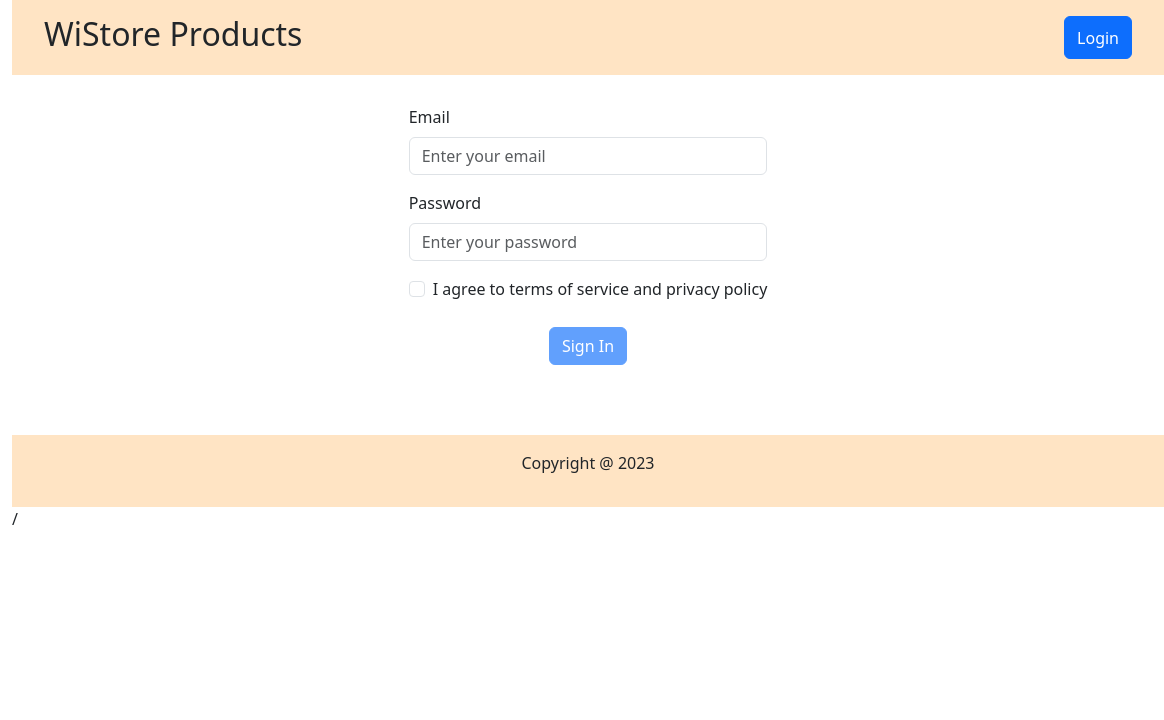
1-) Başarılı form doldurulduğunda submit edebiliyorum: › email yanlış girdim:
The width and height of the screenshot is (1164, 720).
Type "asdasdasdads" into the field with test id "email" at (589, 156), box [409,137,768,175]
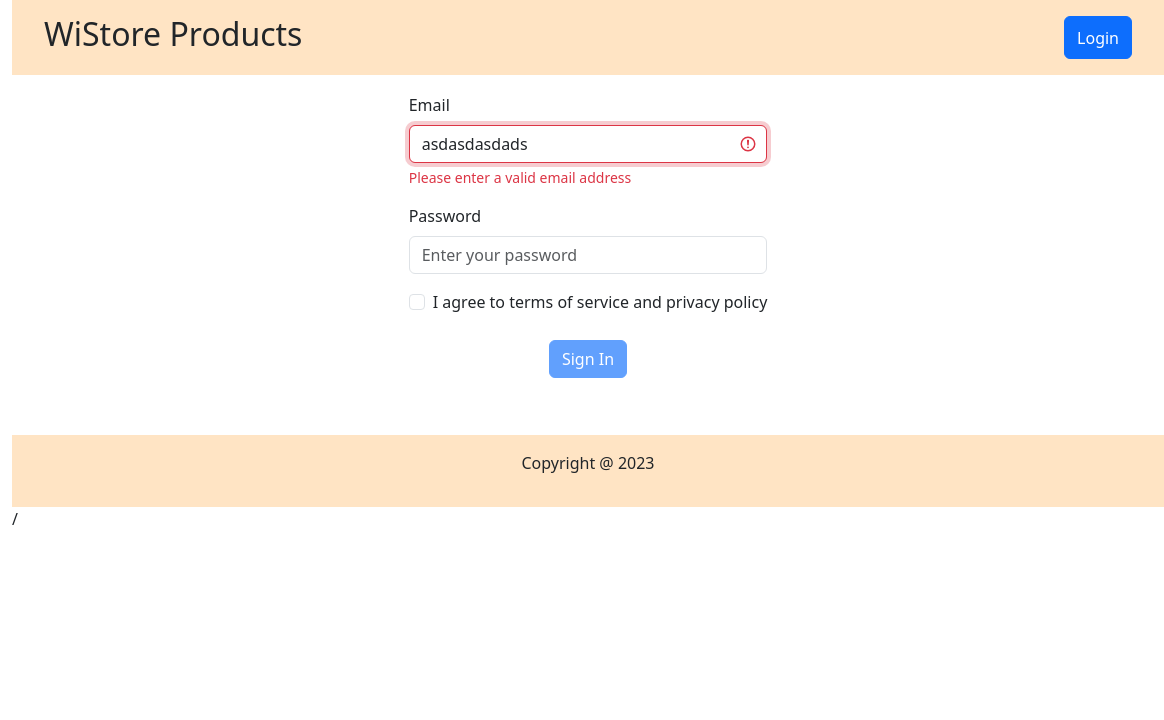
Now the number of elements with test id "error" is 1, box [409,168,632,187]
Now the text "Please enter a valid email address" is shown, box [409,168,631,187]
